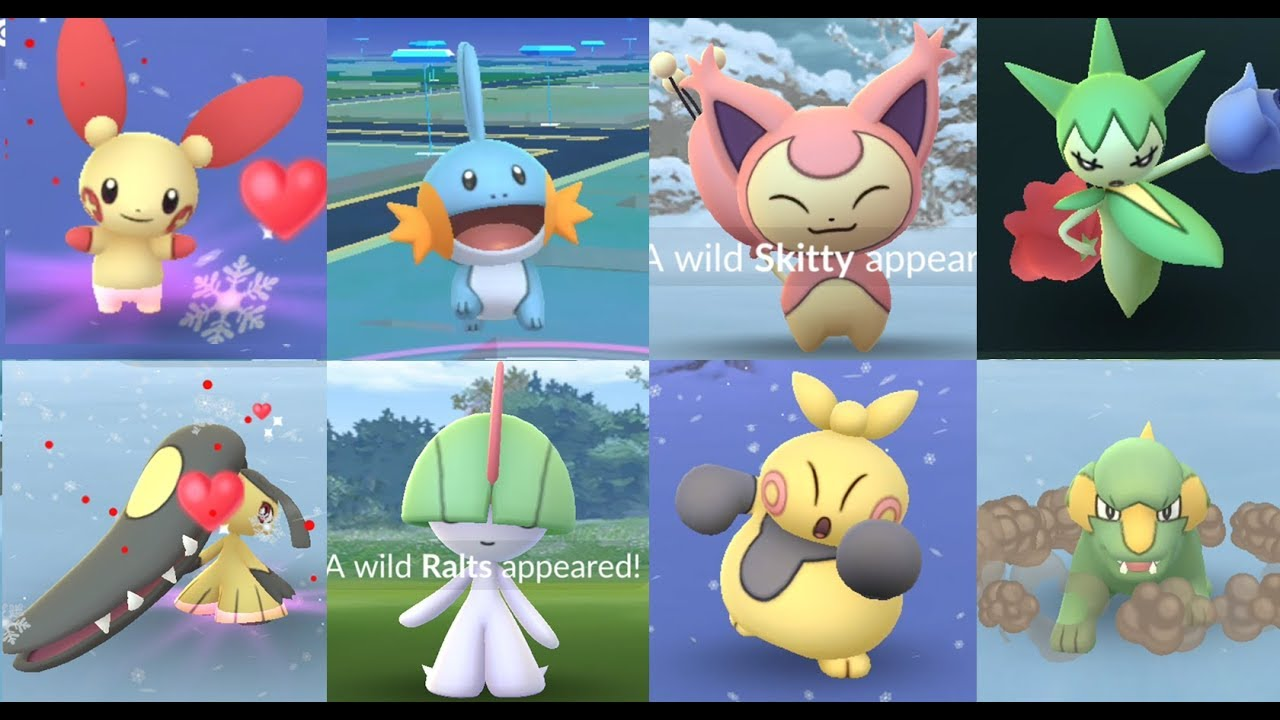mudkip: (383, 46, 601, 349)
